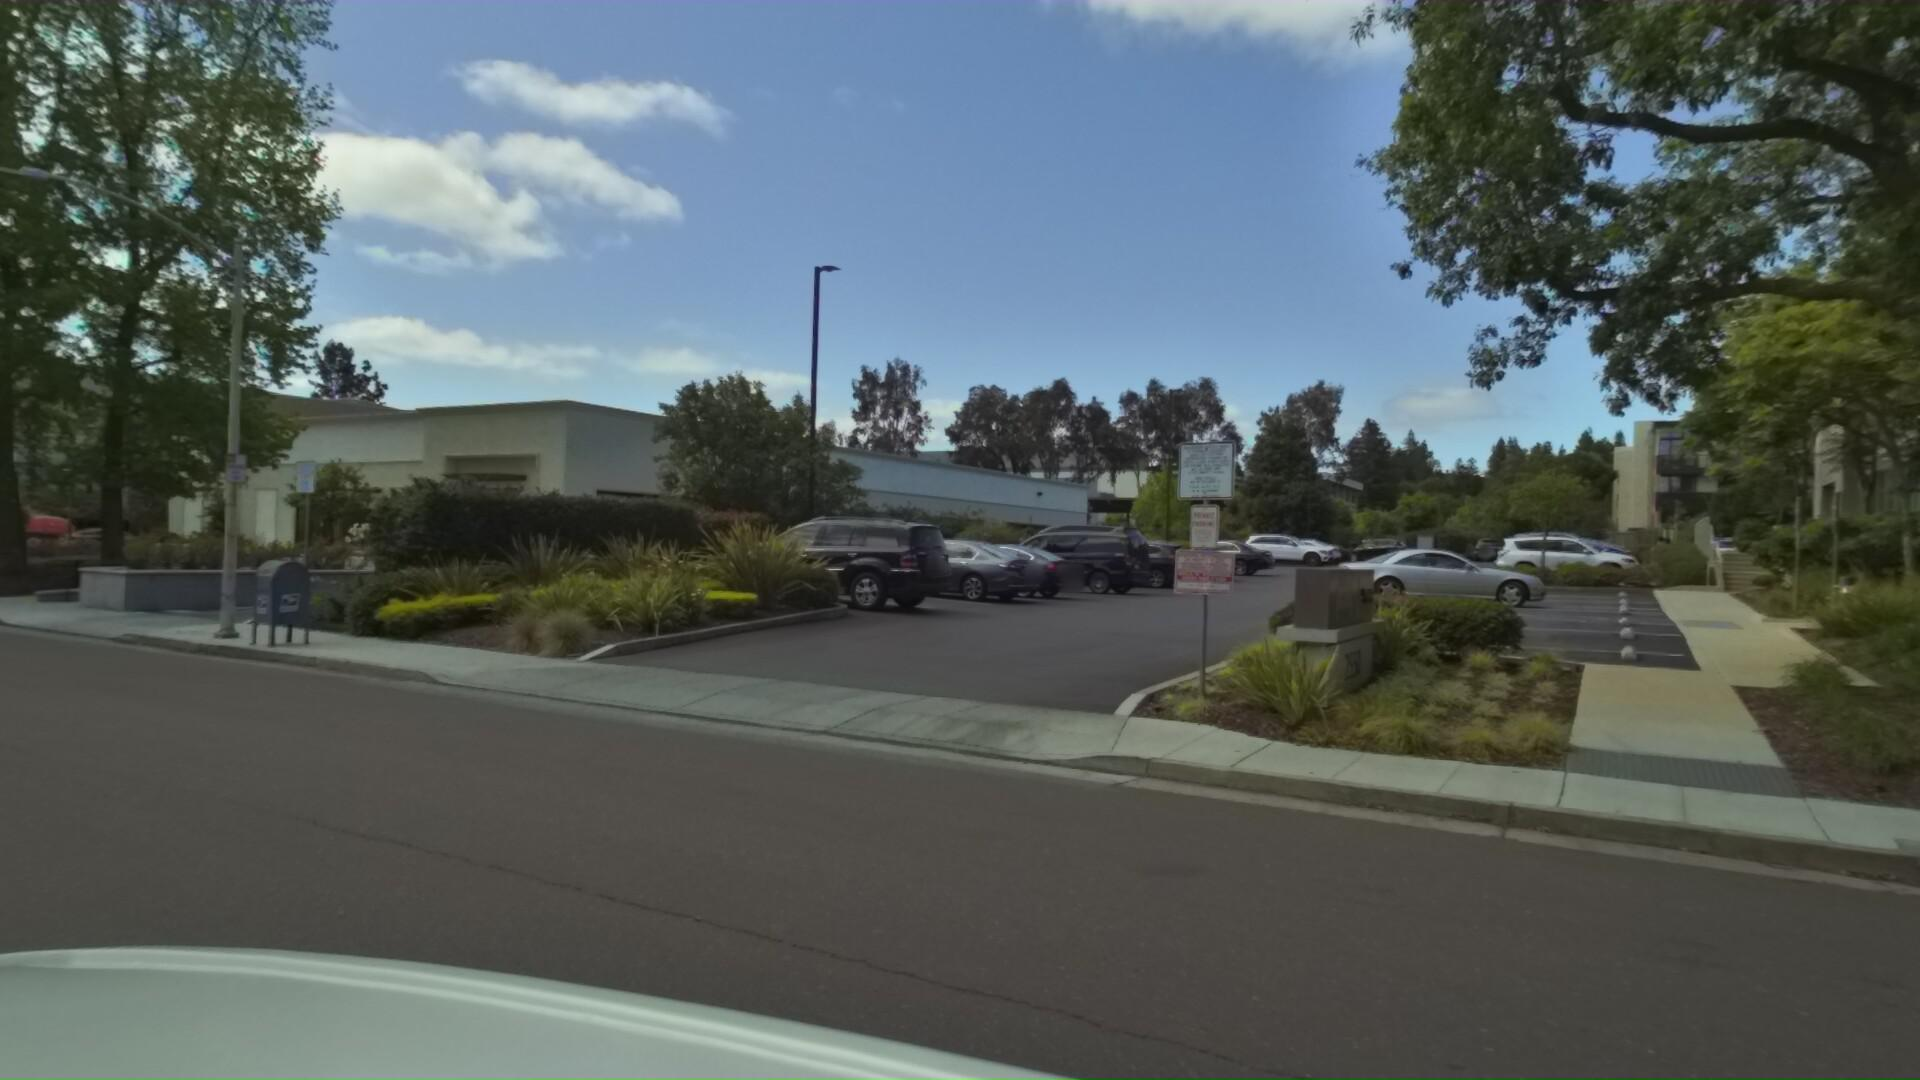other_vehicle: (0, 389, 123, 551)
